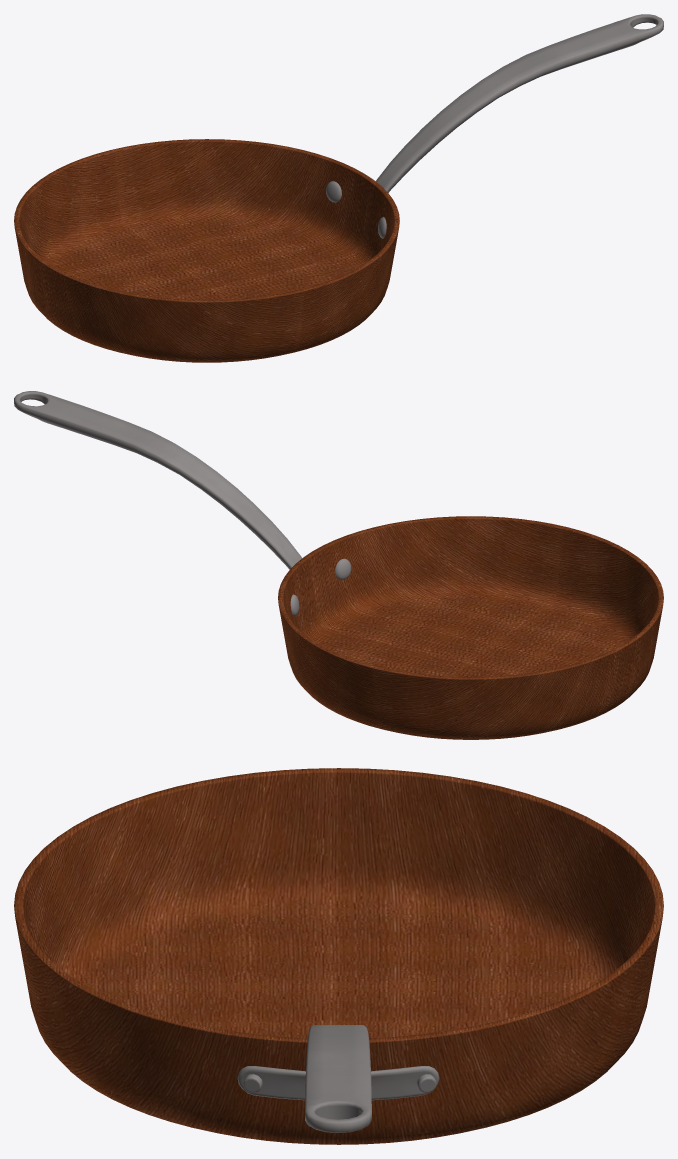
The model's file is padella5.glb.
3 views of the same model, one above another, from view 1: azimuth 30°, elevation 25°; view 2: azimuth 150°, elevation 25°; view 3: azimuth 270°, elevation 25° (orthographic). The views are drawn at different scales.
Parts seen in each view (by area): view 1: contemporary_cookware_frying_pan_YBK2_FQ; view 2: contemporary_cookware_frying_pan_YBK2_FQ; view 3: contemporary_cookware_frying_pan_YBK2_FQ.
Boxes of the visible parts, bbox=[...] form: contemporary_cookware_frying_pan_YBK2_FQ: bbox=[14, 14, 663, 362]; contemporary_cookware_frying_pan_YBK2_FQ: bbox=[14, 391, 663, 739]; contemporary_cookware_frying_pan_YBK2_FQ: bbox=[14, 768, 663, 1144].
Bounding box in the file's own units: 59.34 × 15.05 × 31.91.
Materials: 2 (2 with a texture image).
